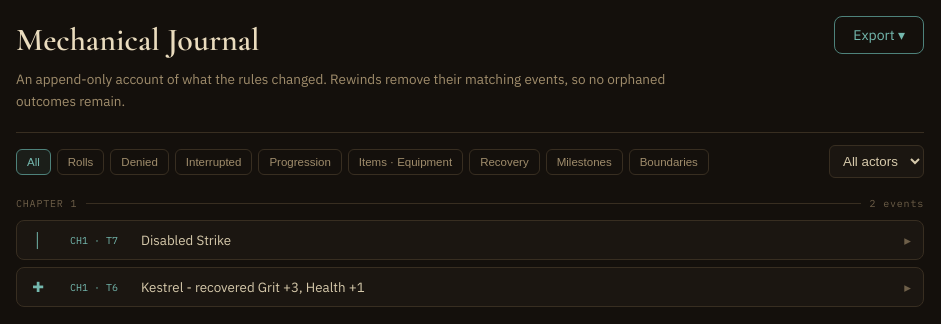
Test: Mechanical Journal › reads recovery and disabled pool entries as sentences with real names
expect the text "Kestrel - recovered Grit +3, Health +1" is shown: met, box [141,278,365,296]
expect the text "Disabled Strike" is shown: met, box [141,231,231,249]
Click the button "Recovery": coordinates (504, 162) [469,149,540,175]
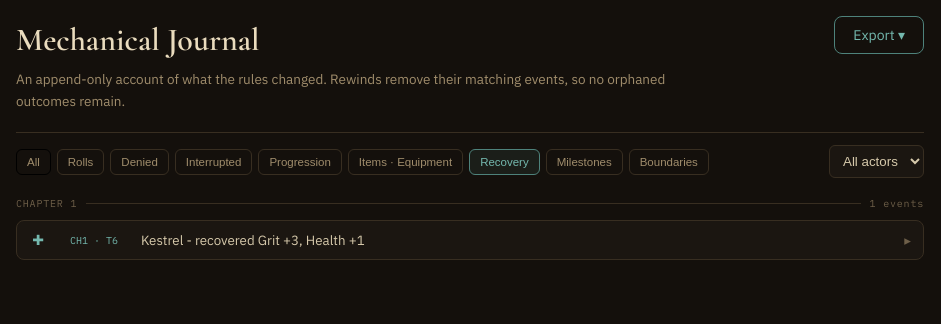
expect the text "Kestrel - recovered Grit +3, Health +1" is shown: met, box [141,231,365,249]
expect the button "Disabled Strike" is gone: met
